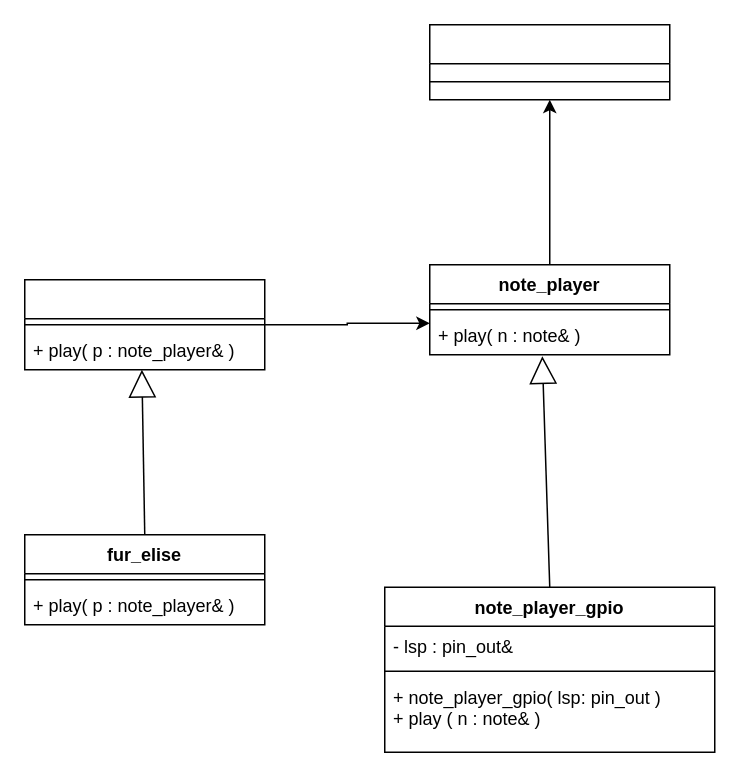
This 740x777 diagram has some shape labels left out. Here are the shapes that lost their labels. From the top down, the box of each, then its label:
(428, 23, 670, 100): note
(23, 278, 265, 370): melody
